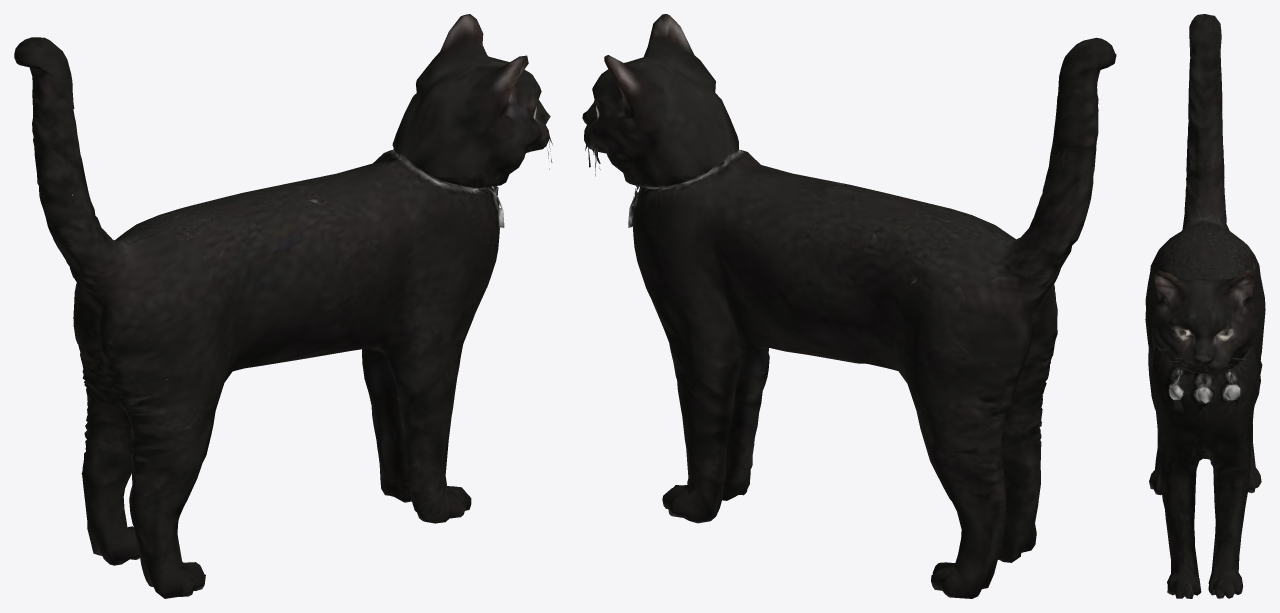
Rendered from INDYBONES-lo.glb.
3 renders of one model, left to right at view 1: azimuth 30°, elevation 25°; view 2: azimuth 150°, elevation 25°; view 3: azimuth 270°, elevation 25°, orthographic. The views are drawn at different scales.
Parts seen in each view (by area): view 1: tripo_node_0fc2f3d3-f58f-4ea1-8b45-84f8532534df; view 2: tripo_node_0fc2f3d3-f58f-4ea1-8b45-84f8532534df; view 3: tripo_node_0fc2f3d3-f58f-4ea1-8b45-84f8532534df.
Boxes of the visible parts, bbox=[...] form: tripo_node_0fc2f3d3-f58f-4ea1-8b45-84f8532534df: bbox=[14, 14, 552, 598]; tripo_node_0fc2f3d3-f58f-4ea1-8b45-84f8532534df: bbox=[582, 14, 1116, 598]; tripo_node_0fc2f3d3-f58f-4ea1-8b45-84f8532534df: bbox=[1145, 14, 1265, 598].
Size of the model in its own units: 0.9896 by 0.9982 by 0.2521.
1 material, 1 textured.
